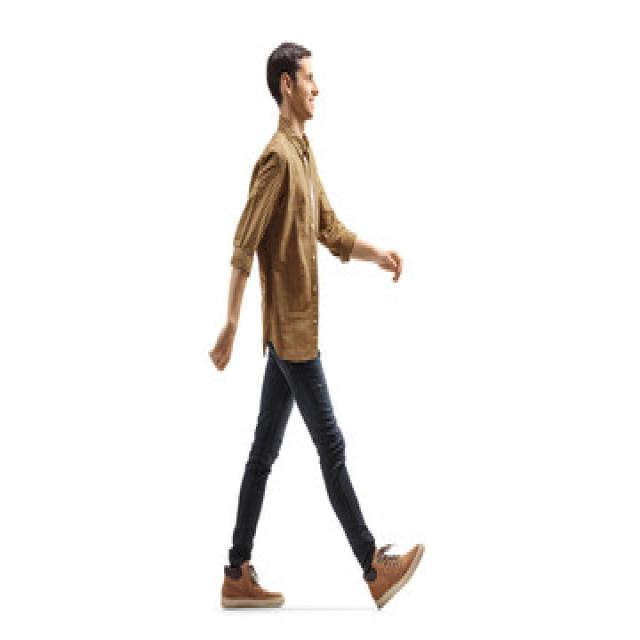Person: (210, 41, 423, 610)
